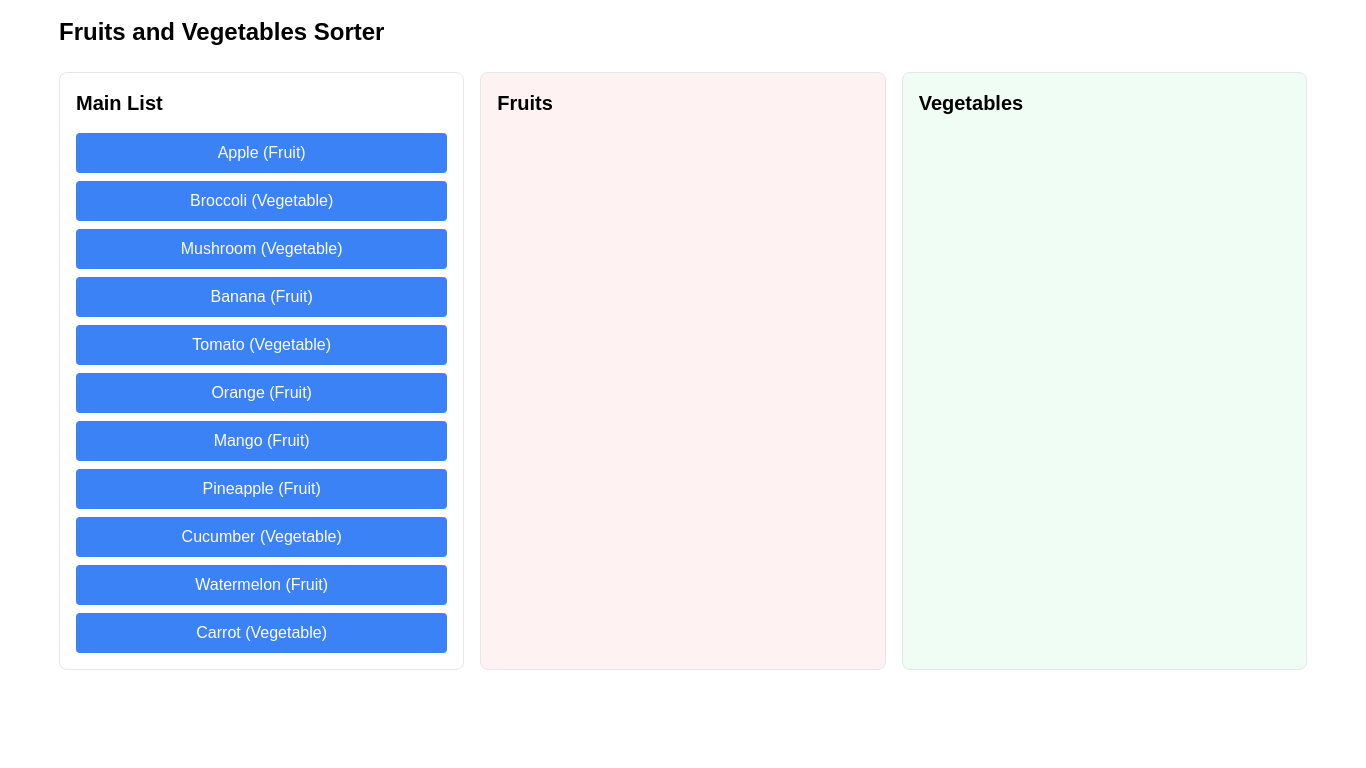
Test: FruitsPage › moves item back to main list immediately when clicked in type column
# Move to fruit column
Click the button "Apple (Fruit)" at (262, 153), box [76,133,447,173]
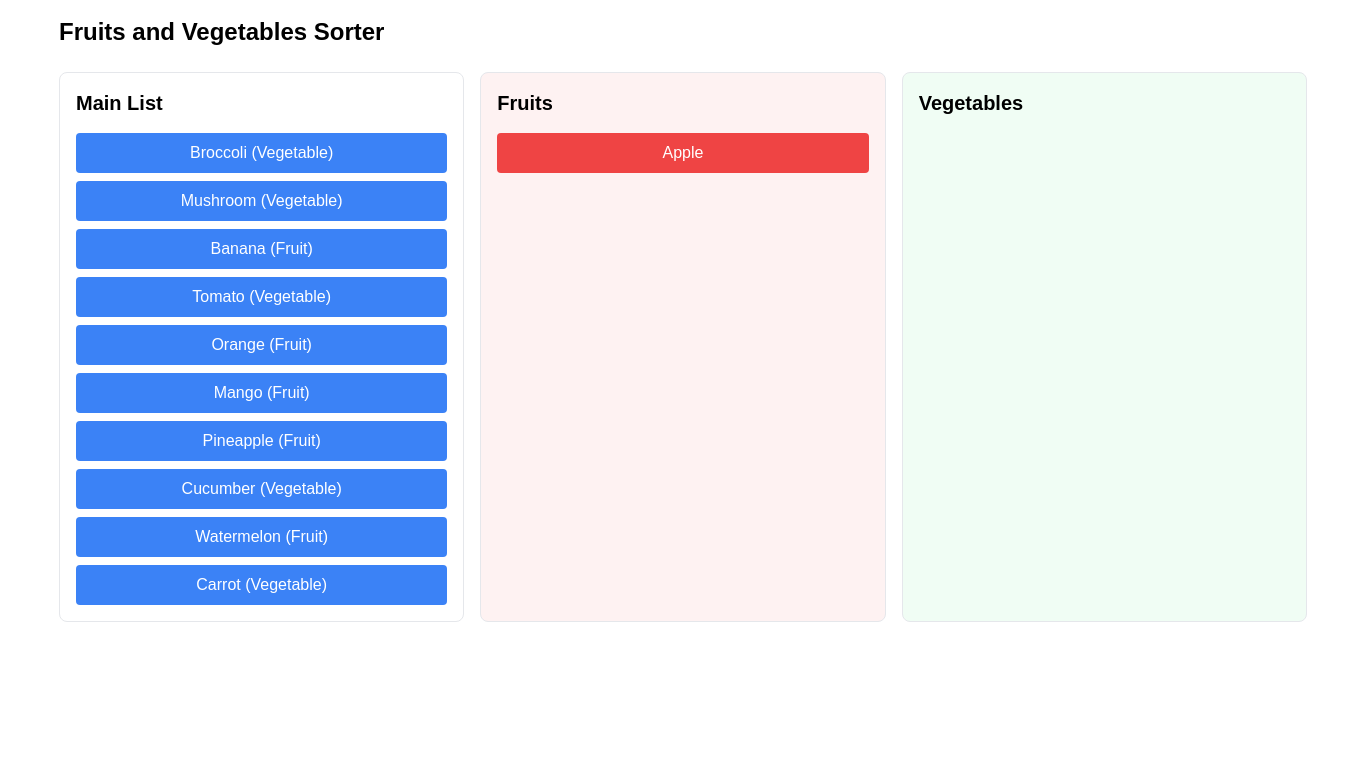
# Click again to move back
Click the button "Apple" at (683, 153), box [497,133,869,173]
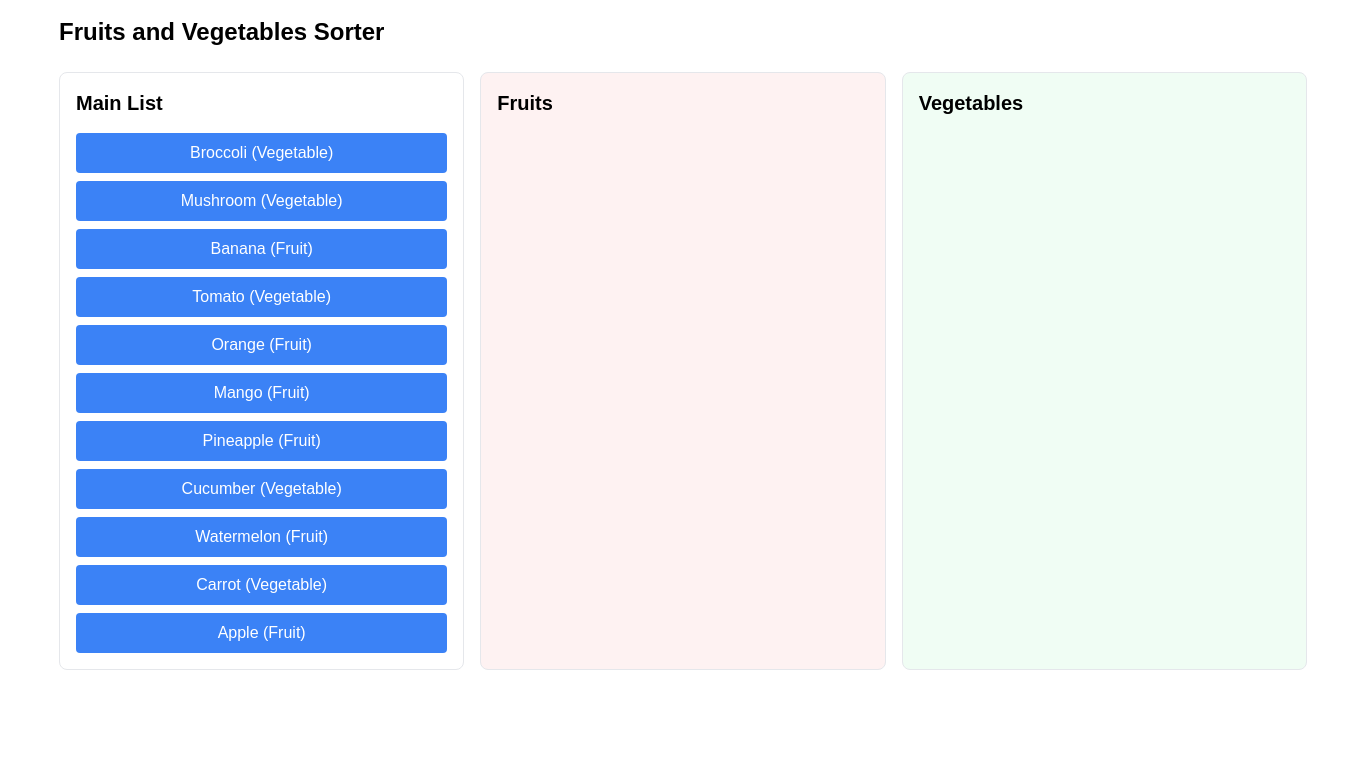
Result: the button "Apple (Fruit)" is shown at [76,613,447,653]
